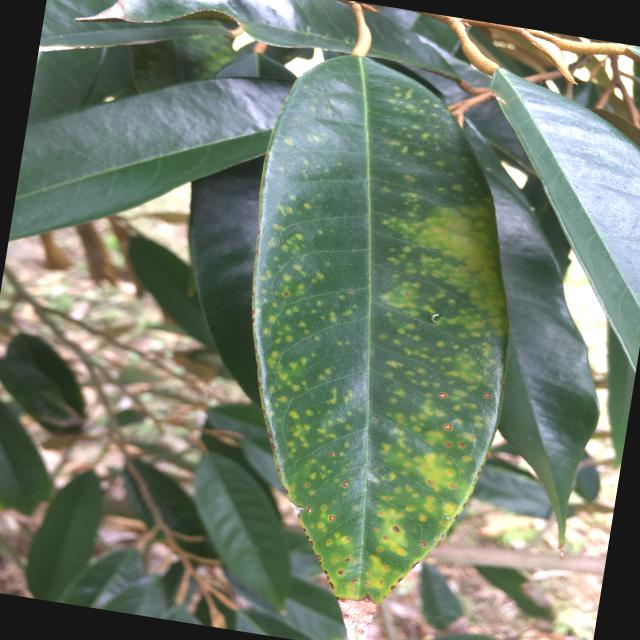Leaf Spot: (187, 38, 565, 639)
